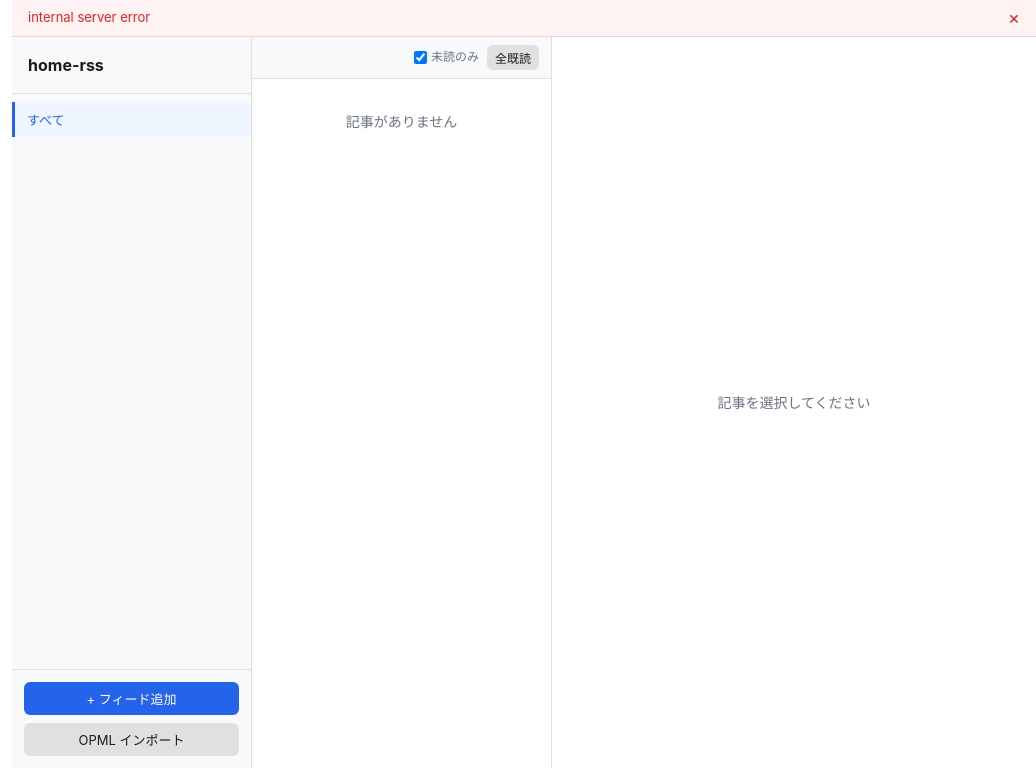
Test case: App › the error banner › goes away when clicked
Click the element with class "error-banner".
click(524, 18)  # box [12,0,1035,36]
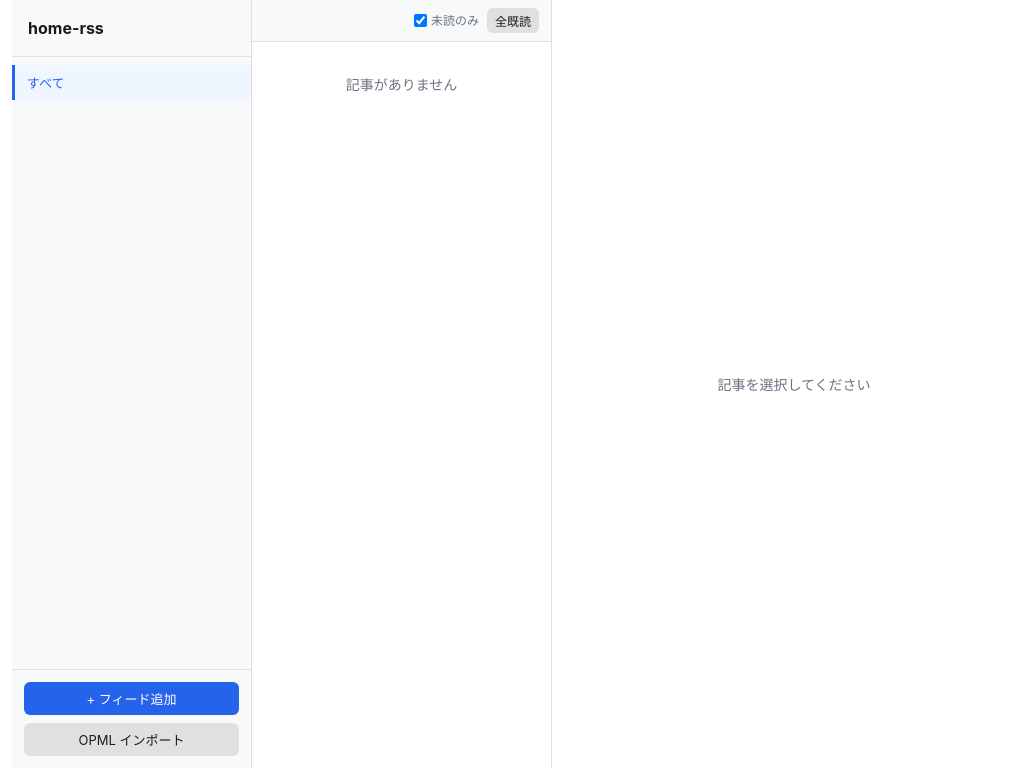
Expected: the element with class "error-banner" is gone
